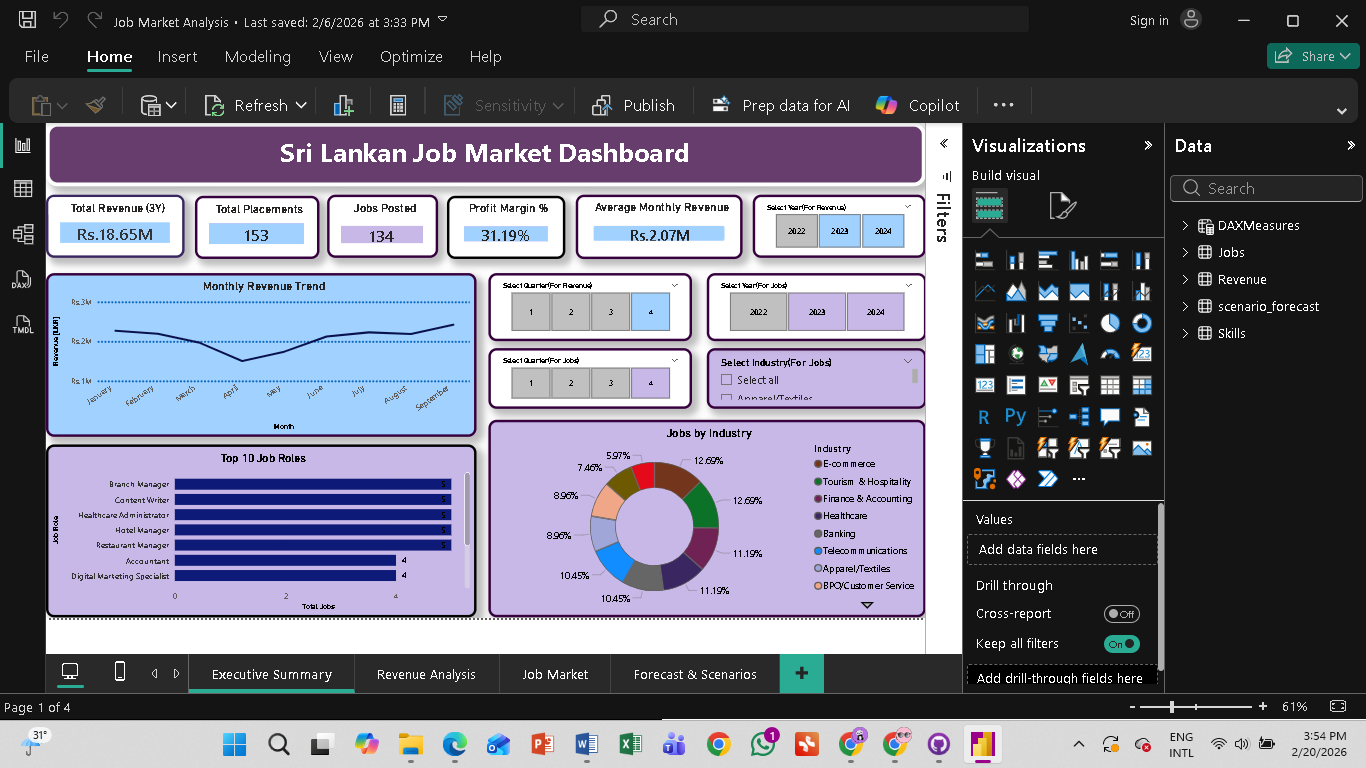

The page's visual inventory and layout, read from the dashboard file:
{"tool":"powerbi","page":{"name":"Executive Summary","canvas":[1280,720],"ordinal":0},"visuals":[{"type":"textbox","box":[0,0,1280,91.7],"z":0},{"type":"cardVisual","title":"Total Revenue (3Y)","fields":{"Data":["DAXMeasures.Total Revenue"]},"box":[0,104.7,202.2,92.2],"z":1000},{"type":"cardVisual","title":"Total Placements","fields":{"Data":["DAXMeasures.Total Placements"]},"box":[216.4,106.4,180.9,92.2],"z":2000},{"type":"cardVisual","title":"Jobs Posted","fields":{"Data":["DAXMeasures.Total Jobs"]},"box":[409.8,104.7,161.4,92.2],"z":3000},{"type":"cardVisual","title":"Profit Margin %","fields":{"Data":["DAXMeasures.Profit Margin %"]},"box":[583.6,106.4,172.1,92.2],"z":4000},{"type":"lineChart","title":"Monthly Revenue Trend","fields":{"Category":["Revenue.Date.Variation.Date Hierarchy.Month"],"Y":["DAXMeasures.Total Revenue"]},"box":[0,218.3,626.7,238.3],"z":5000},{"type":"donutChart","title":"Jobs by Industry","fields":{"Category":["Jobs.Industry"],"Y":["DAXMeasures.Total Jobs"]},"box":[643.9,432.8,636.8,287.4],"z":6000},{"type":"clusteredBarChart","title":"Top 10 Job Roles","fields":{"Category":["Jobs.Job_Role"],"Y":["DAXMeasures.Total Jobs"]},"box":[0,468.3,626.7,251.7],"z":7000},{"type":"slicer","fields":{"Values":["Revenue.Year"]},"box":[1028.8,104.7,251.9,92.2],"z":8000},{"type":"slicer","fields":{"Values":["Revenue.Quarter"]},"box":[643.9,218.2,296.2,99.3],"z":9000},{"type":"slicer","fields":{"Values":["Jobs.Industry"]},"box":[961.4,328.2,319.3,88.7],"z":10000},{"type":"slicer","fields":{"Values":["Jobs.Year"]},"box":[961.4,218.2,319.3,99.3],"z":11000},{"type":"slicer","fields":{"Values":["Jobs.Quarter"]},"box":[643.9,328.2,296.2,88.7],"z":12000},{"type":"cardVisual","title":"Average Monthly Revenue","fields":{"Data":["DAXMeasures.Avg Monthly Revenue"]},"box":[771.6,104.7,243,94],"z":12001}]}

Visuals, with their boxes on the page's 1280x720 design canvas (x1, y1, x2, y2). These are canvas units, not pixel positions in the 1366x768 screenshot, which may show the page scaled, cropped or inside an application window:
textbox: bbox(0, 0, 1280, 92)
"Total Revenue (3Y)" cardVisual: bbox(0, 105, 202, 197)
"Total Placements" cardVisual: bbox(216, 106, 397, 199)
"Jobs Posted" cardVisual: bbox(410, 105, 571, 197)
"Profit Margin %" cardVisual: bbox(584, 106, 756, 199)
"Monthly Revenue Trend" lineChart: bbox(0, 218, 627, 457)
"Jobs by Industry" donutChart: bbox(644, 433, 1281, 720)
"Top 10 Job Roles" clusteredBarChart: bbox(0, 468, 627, 720)
slicer - Revenue.Year: bbox(1029, 105, 1281, 197)
slicer - Revenue.Quarter: bbox(644, 218, 940, 318)
slicer - Jobs.Industry: bbox(961, 328, 1281, 417)
slicer - Jobs.Year: bbox(961, 218, 1281, 318)
slicer - Jobs.Quarter: bbox(644, 328, 940, 417)
"Average Monthly Revenue" cardVisual: bbox(772, 105, 1015, 199)
